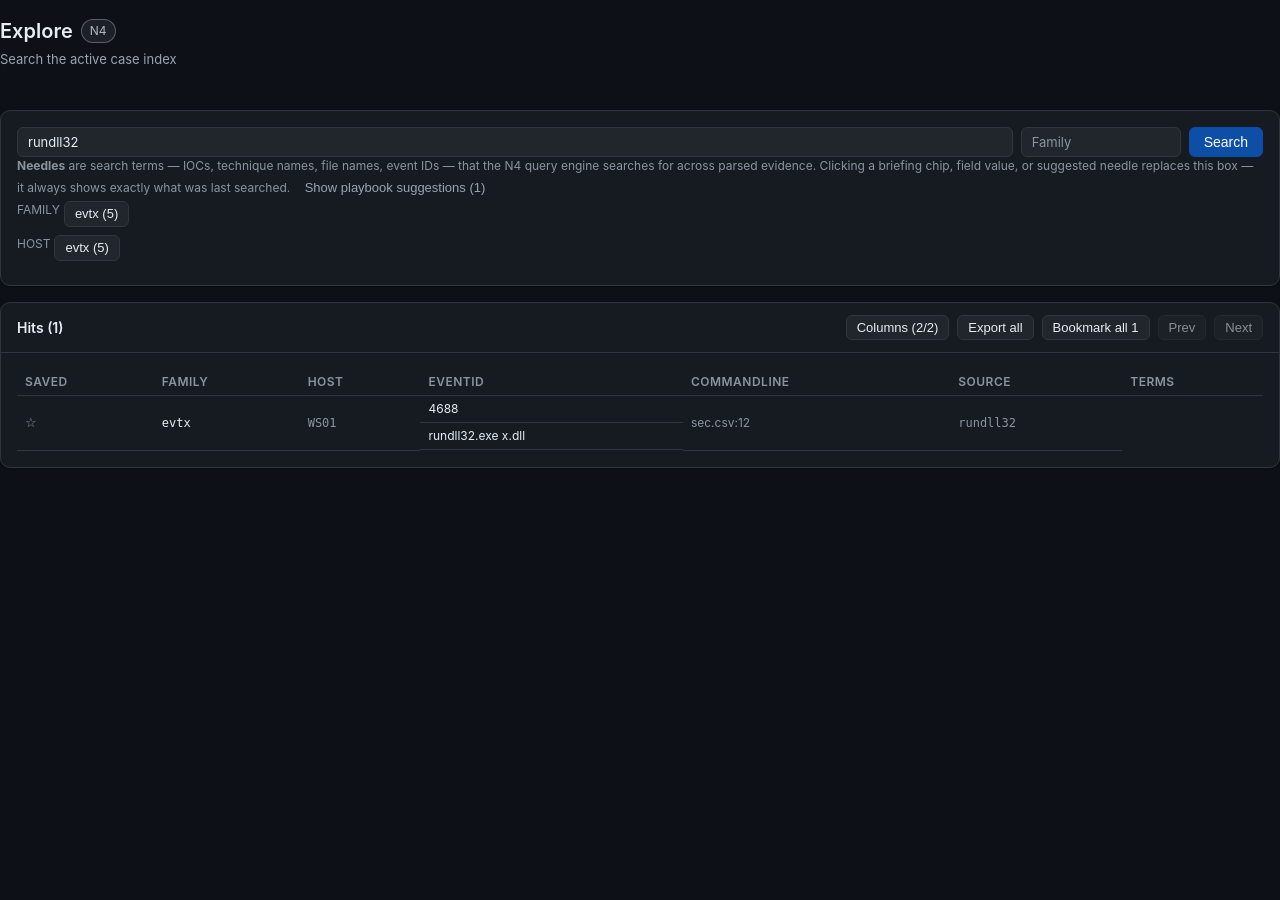
Explore page (WP 4j.5) › shows an honest note when interpretation fails outright
Click the text "4688" at coordinates (552, 410), box left=420, top=396, right=683, bottom=424
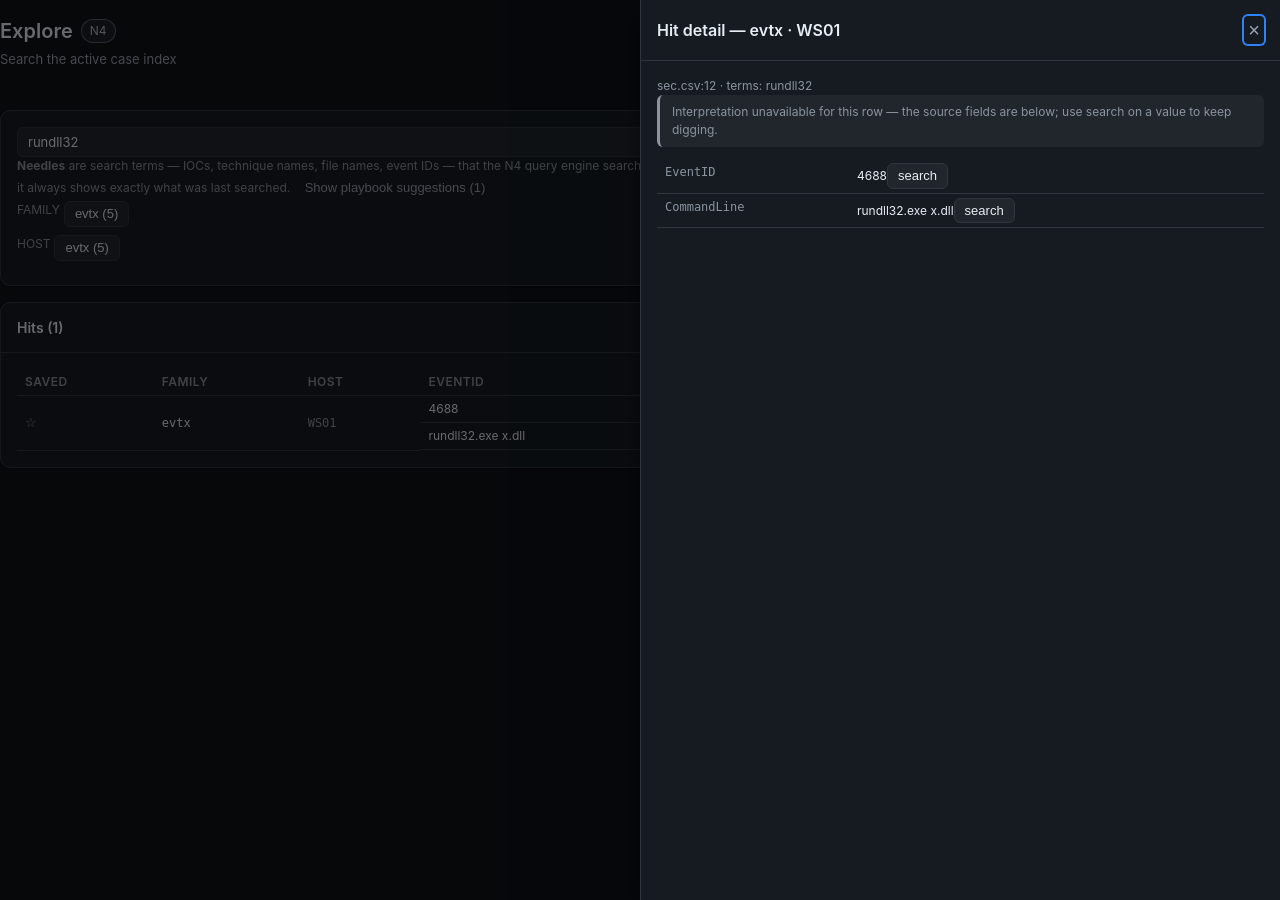
Check: the text "Interpretation unavailable for this row" is shown, box left=672, top=104, right=1231, bottom=137
